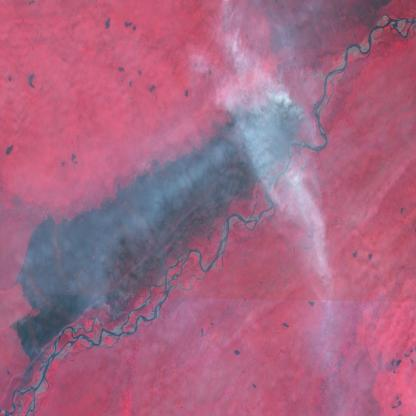fire: (266, 85, 310, 123)
